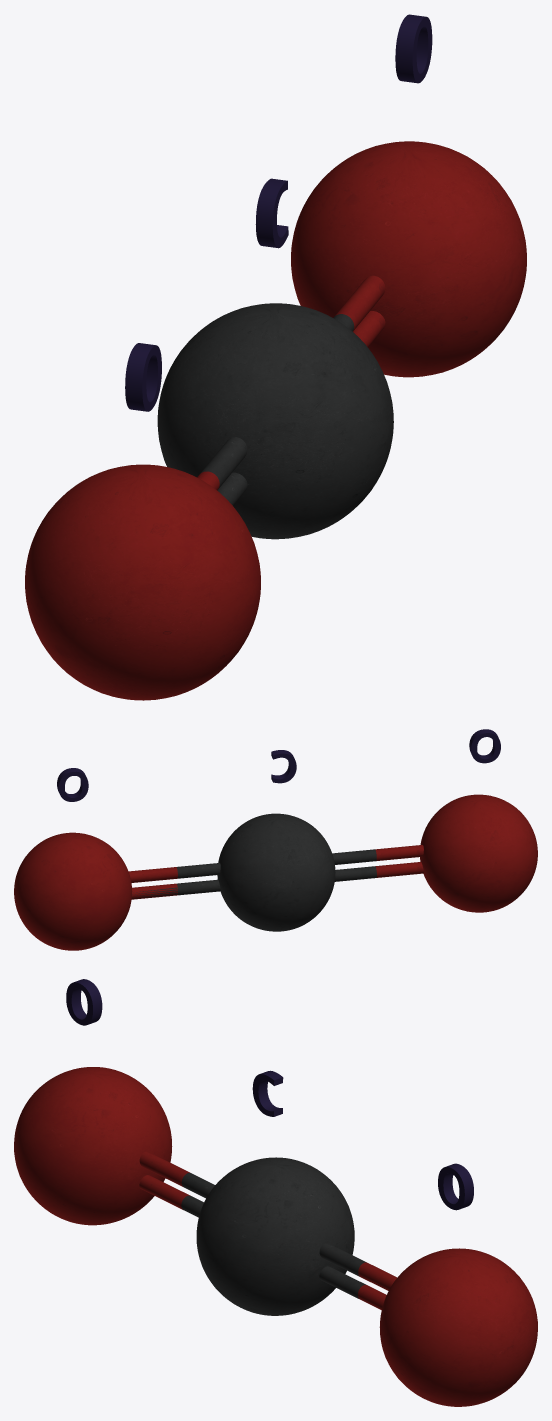
File: karbondioksid1.gltf
The picture shows the model from 3 angles, top to bottom: view 1: azimuth 30°, elevation 25°; view 2: azimuth 150°, elevation 25°; view 3: azimuth 270°, elevation 25°; orthographic projection. The views are drawn at different scales.
Visible parts, largest first — view 1: Cil_R_1; view 2: Cil_R_1; view 3: Cil_R_1.
Boxes of the visible parts, left/top/right/bottom form: Cil_R_1: left=25, top=14, right=526, bottom=700; Cil_R_1: left=14, top=729, right=537, bottom=950; Cil_R_1: left=14, top=979, right=537, bottom=1406.
Bounding box in the file's own units: 1.99 × 0.9127 × 1.81.
Materials: 3 (2 with a texture image).
